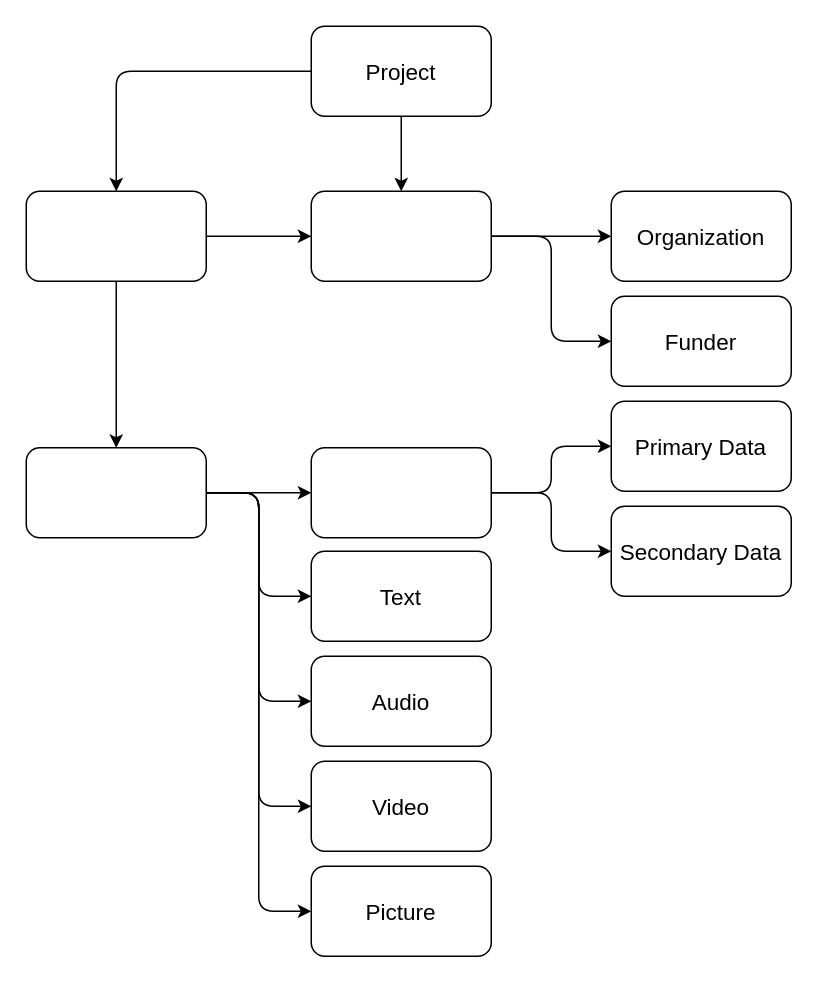
The diagram is 818 pixels wide and 983 high, and some of its shapes have lost their labels. Here are the shapes that lost their labels. From the top down, the centre of each, then its label:
[115,235]: Action
[400,235]: Contributor Team
[115,492]: Documents
[400,492]: Data
